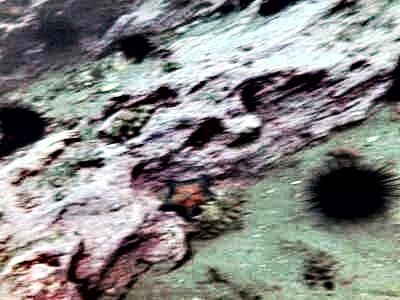urchin: (305, 153, 394, 228), (3, 99, 48, 153), (117, 30, 153, 66)
